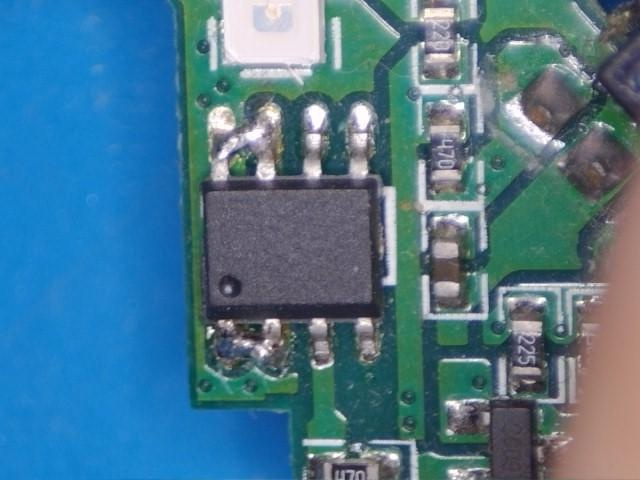pcb_defect: (208, 107, 276, 181), (216, 318, 285, 368)
